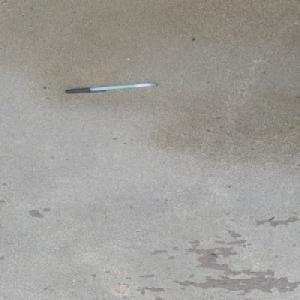Pen: (63, 81, 157, 94)
